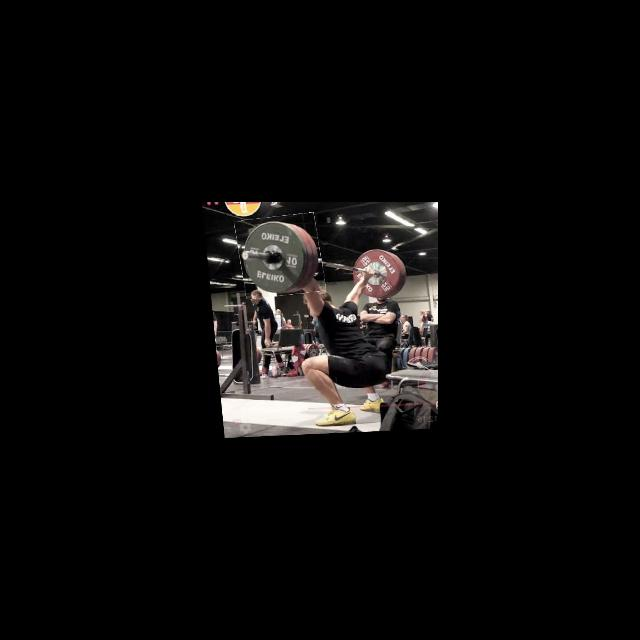barbell: (234, 214, 323, 298)
